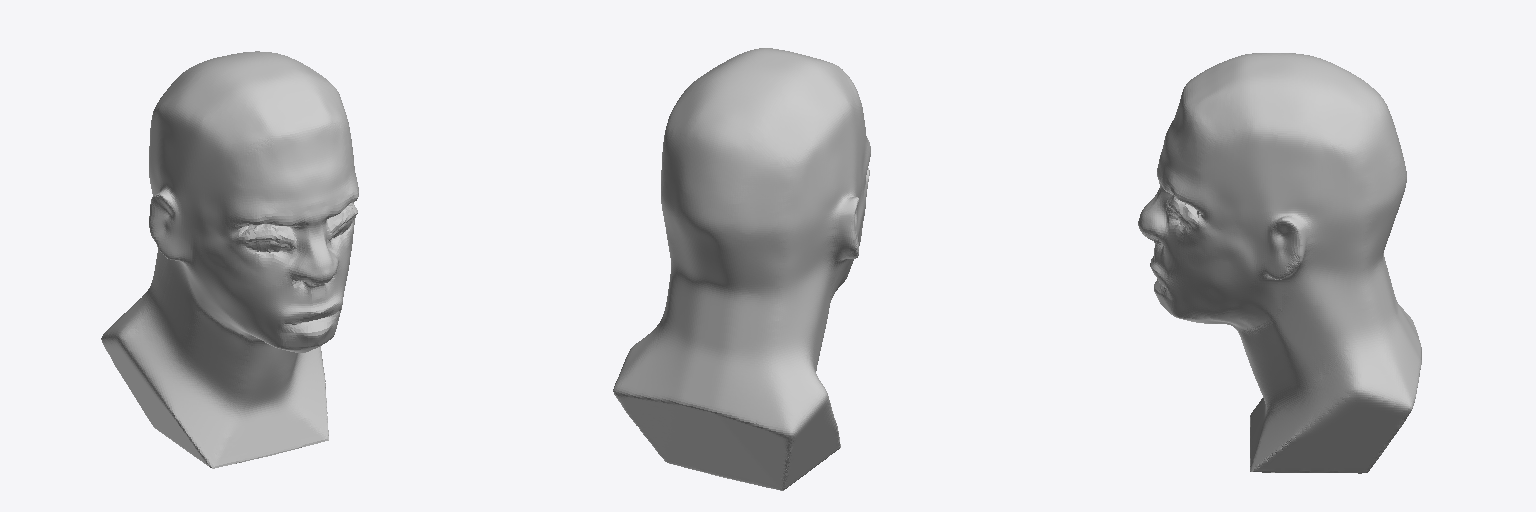
Rendered from GusHead.obj.
3 views of the same model, side by side, from view 1: azimuth 30°, elevation 25°; view 2: azimuth 150°, elevation 25°; view 3: azimuth 270°, elevation 25° (orthographic).
Parts seen in each view (by area): view 1: Group17788, Group16055; view 2: Group17788; view 3: Group17788.
Part boxes in pixels (bbox=[...]): Group17788: bbox=[101, 51, 358, 468]; Group16055: bbox=[253, 206, 354, 252]; Group17788: bbox=[613, 48, 870, 490]; Group17788: bbox=[1138, 53, 1421, 473].
Size of the model in its own units: 1.65 by 3.1 by 2.08.